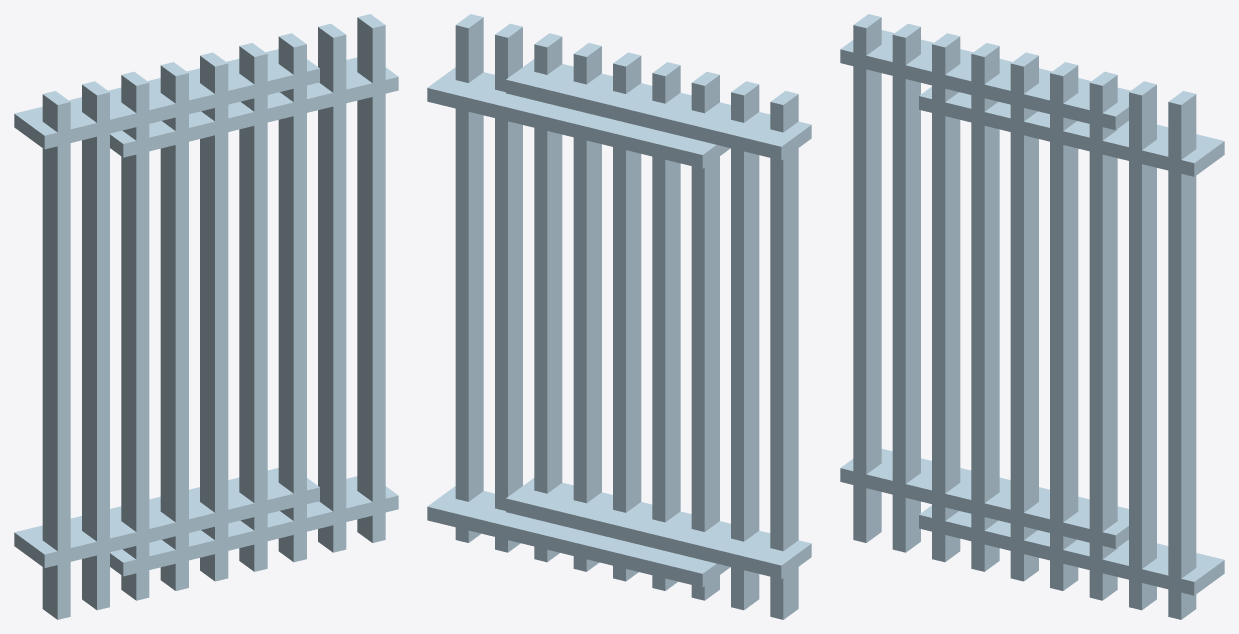
The model's file is lowprofile-bed.glb.
The picture shows the model from 3 angles, left to right: view 1: azimuth 30°, elevation 25°; view 2: azimuth 150°, elevation 25°; view 3: azimuth 330°, elevation 25°; orthographic projection.
Visible parts, largest first — view 1: Part 1 (×13); view 2: Part 1 (×13); view 3: Part 1 (×13).
Boxes of the visible parts, x1,y1,x2,y2 form: Part 1 (×13): (14,14,398,619); Part 1 (×13): (427,14,811,619); Part 1 (×13): (840,14,1224,619).
Size of the model in its own units: 1.37 by 1.9 by 0.2032.
